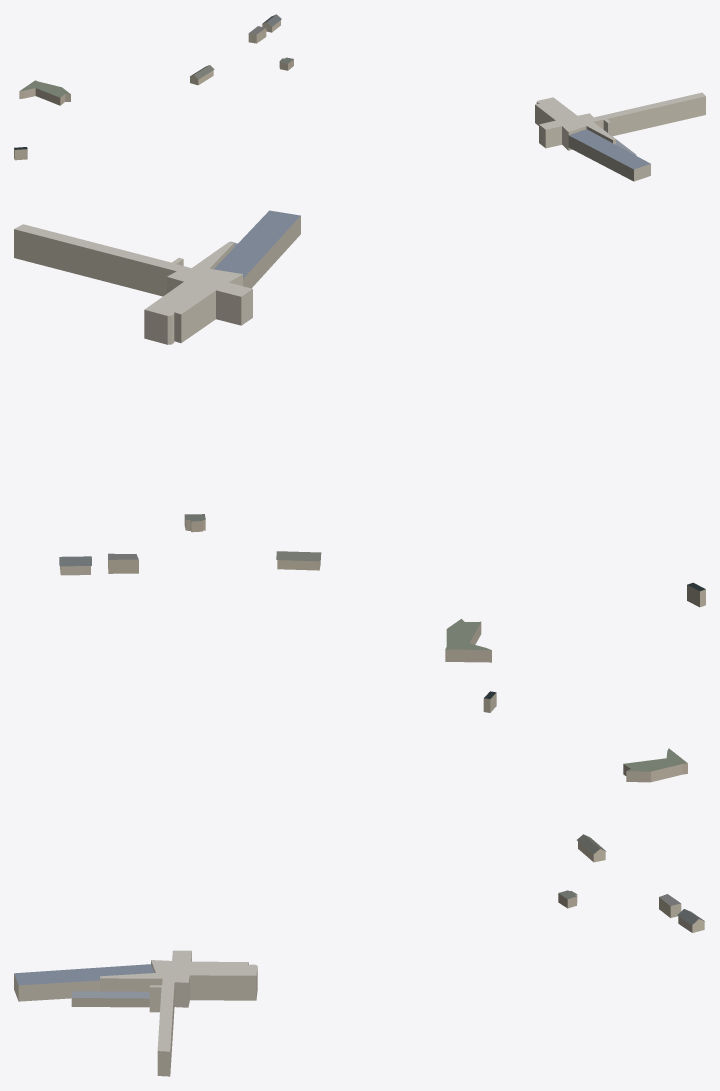
3 renders of one model, top to bottom at view 1: azimuth 30°, elevation 25°; view 2: azimuth 150°, elevation 25°; view 3: azimuth 270°, elevation 25°, orthographic. The views are drawn at different scales.
Visible parts, largest first — view 1: tuile; view 2: tuile; view 3: tuile.
Part boxes in pixels (<box>): tuile: <box>14,14,705,181</box>; tuile: <box>14,210,705,662</box>; tuile: <box>14,691,704,1076</box>.
Bounding box in the file's own units: 308 × 11.64 × 243.
